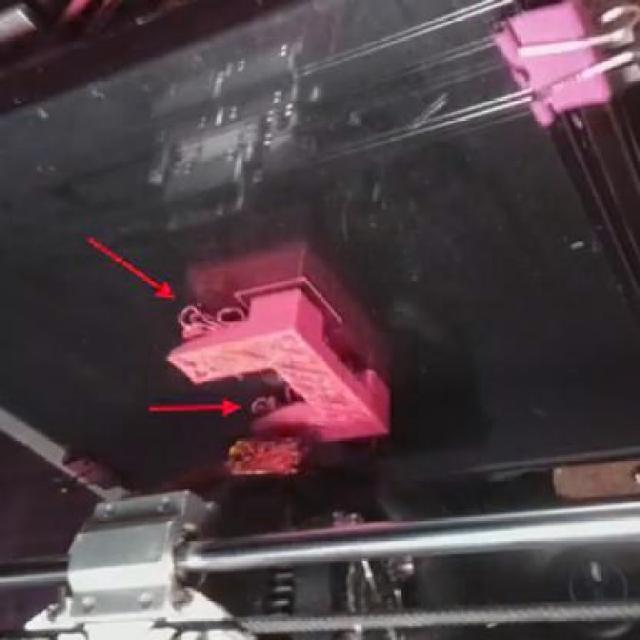spaghetti: (175, 298, 243, 346), (251, 384, 300, 418)
